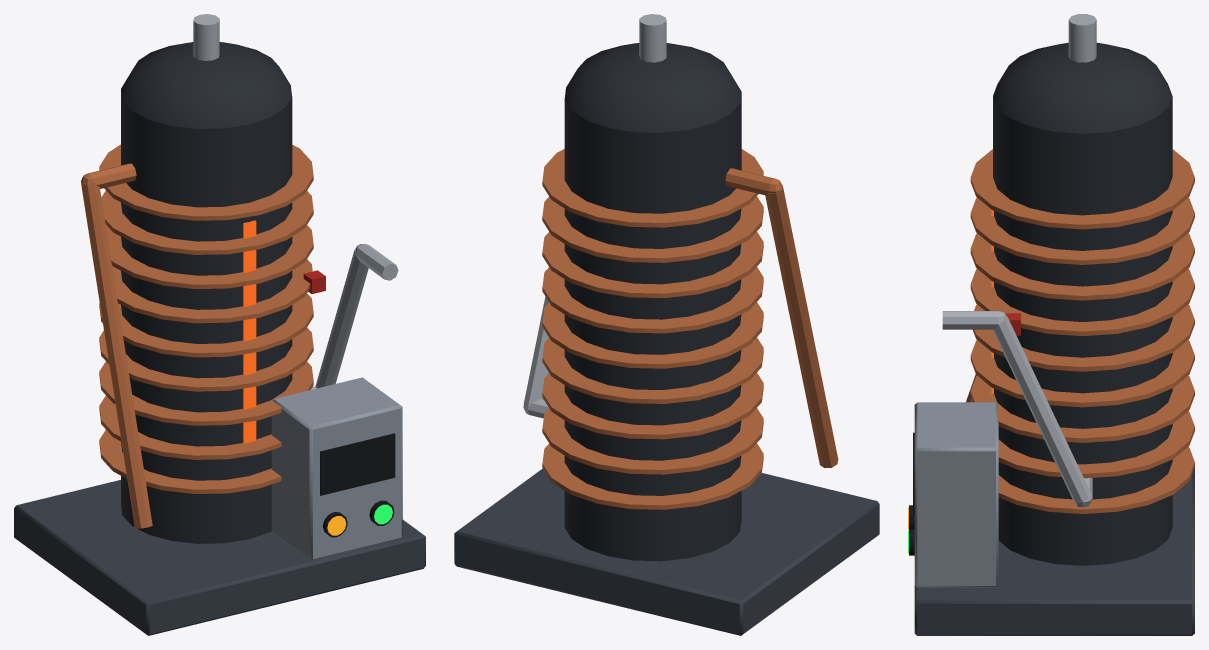
The model's file is scrubber_sabatier_reactor.glb.
The picture shows the model from 3 angles, left to right: view 1: azimuth 30°, elevation 25°; view 2: azimuth 150°, elevation 25°; view 3: azimuth 270°, elevation 25°; orthographic projection. The views are drawn at different scales.
Parts seen in each view (by area): view 1: scrubber_sabatier_reactor; view 2: scrubber_sabatier_reactor; view 3: scrubber_sabatier_reactor.
Boxes of the visible parts, box(x1,y1,x2,y2) form: scrubber_sabatier_reactor: box(14, 14, 425, 635); scrubber_sabatier_reactor: box(454, 14, 879, 635); scrubber_sabatier_reactor: box(908, 14, 1194, 635).
Size of the model in its own units: 1.2 by 2.15 by 1.02.
